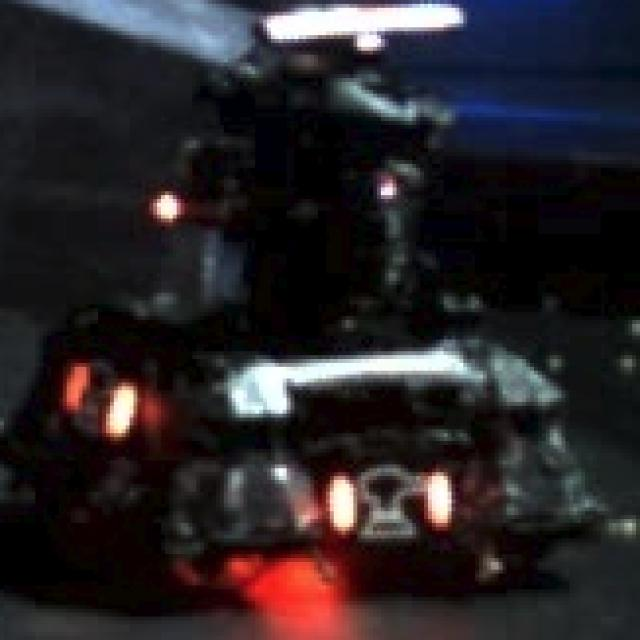Rs: (322, 464, 451, 538), (63, 367, 129, 437)
